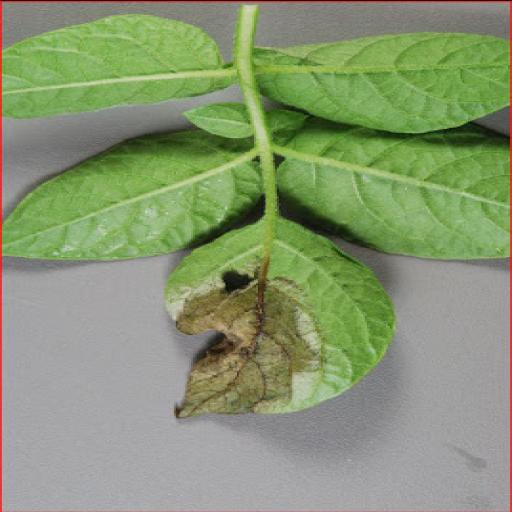disease_tomato: (157, 210, 407, 425)
